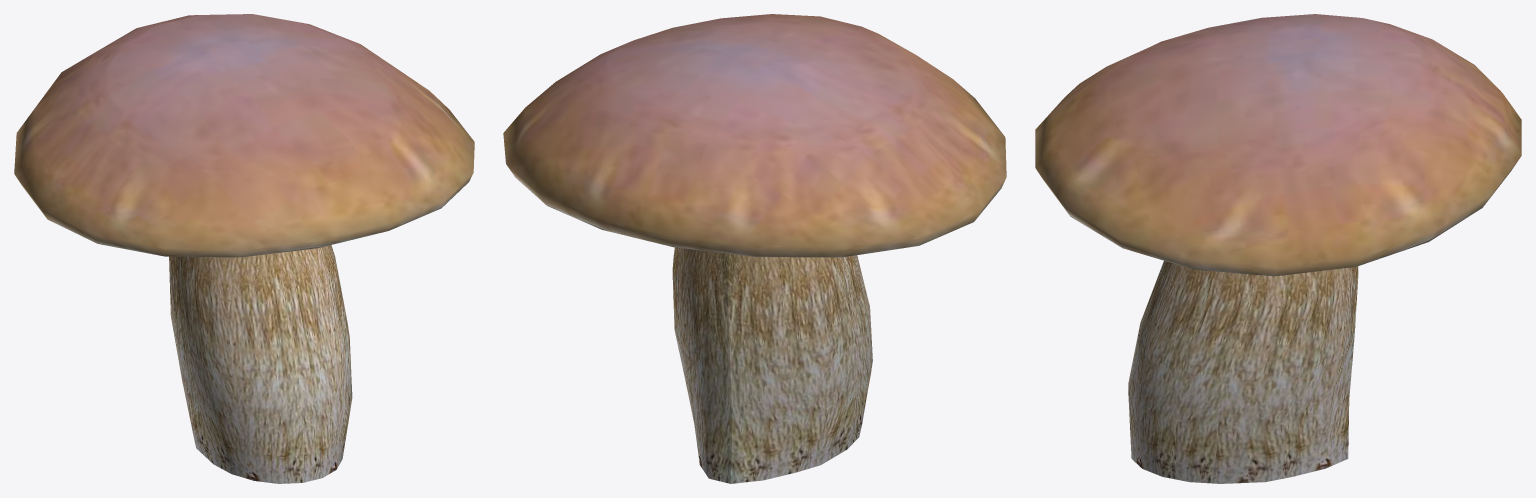
Rendered from boletus.dae.
3 renders of one model, left to right at view 1: azimuth 30°, elevation 25°; view 2: azimuth 150°, elevation 25°; view 3: azimuth 270°, elevation 25°, orthographic. The views are drawn at different scales.
Parts seen in each view (by area): view 1: boletus; view 2: boletus; view 3: boletus.
Part boxes in pixels (x1=…): boletus: x1=14, y1=14, x2=474, y2=483; boletus: x1=503, y1=14, x2=1006, y2=483; boletus: x1=1035, y1=14, x2=1521, y2=483.
Size of the model in its own units: 76.71 by 73.33 by 67.33.
1 material, 1 textured.
